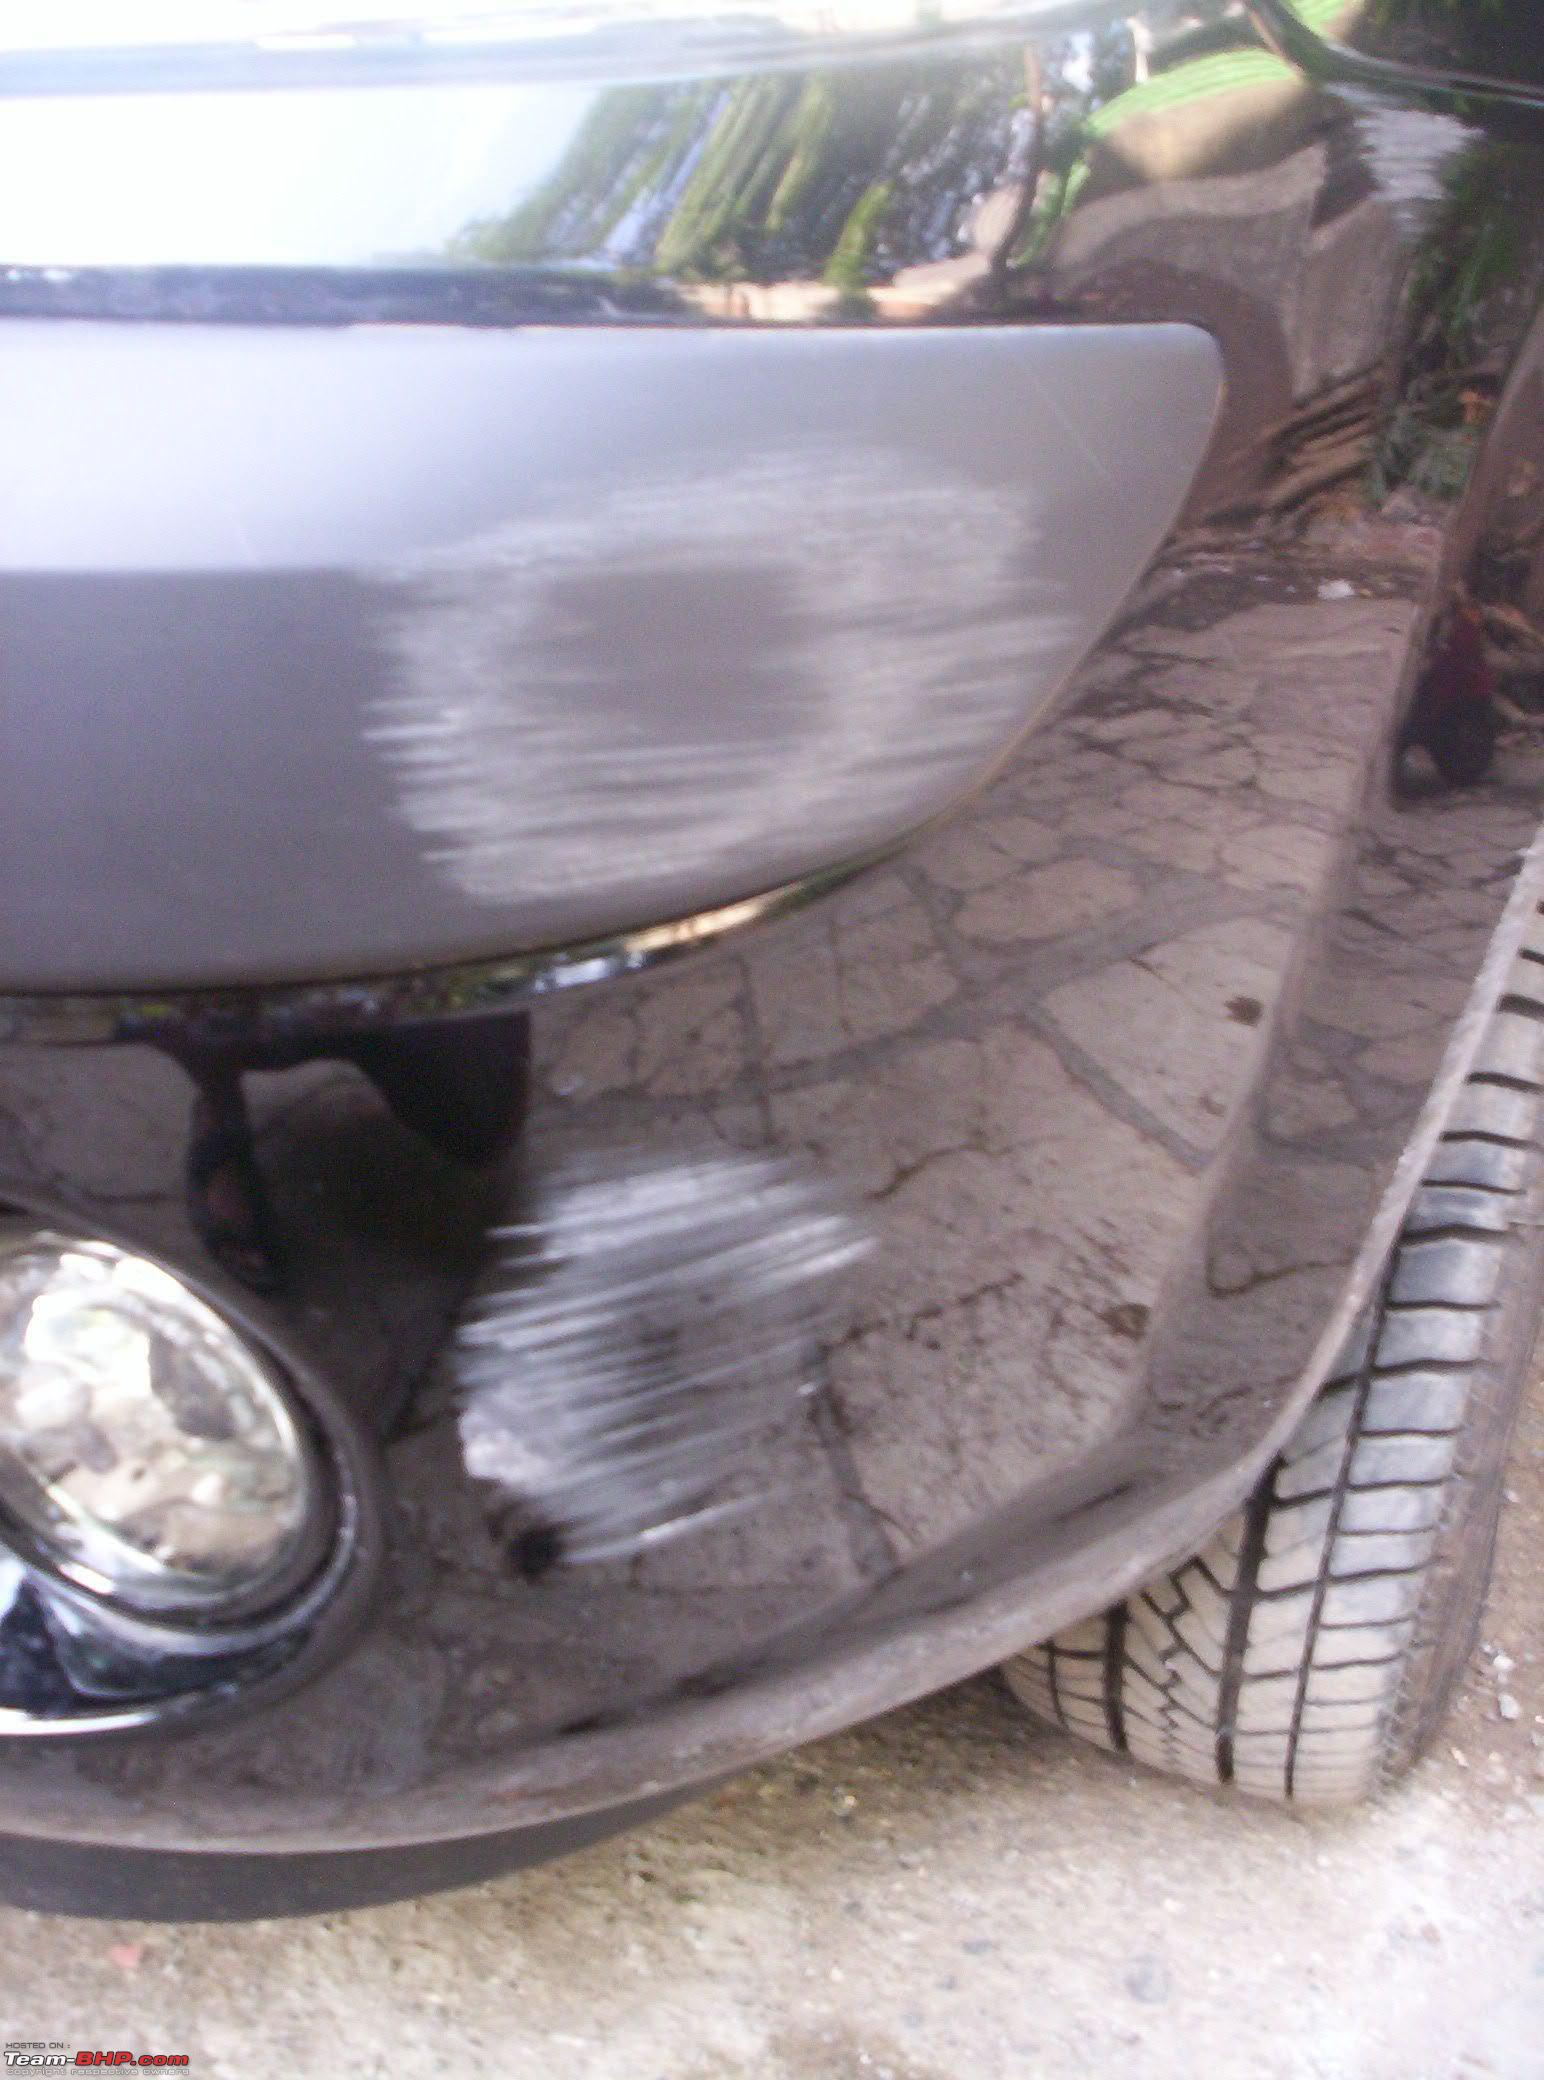front-bumper-dent: (11, 336, 1465, 1845)
